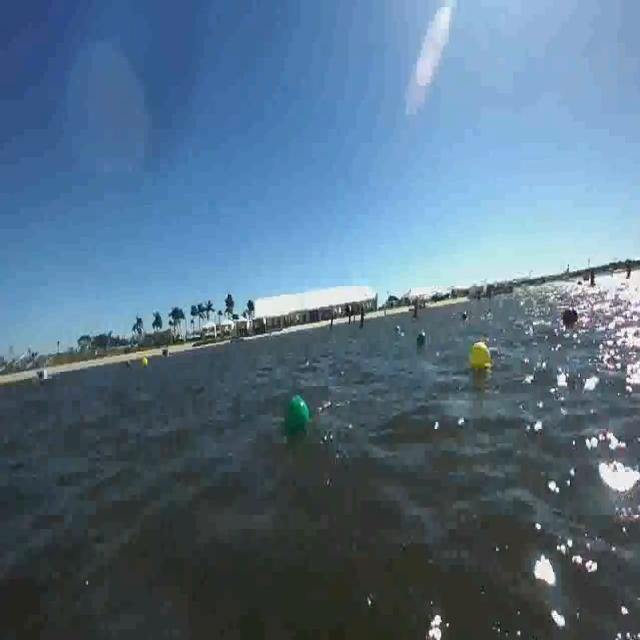green-buoy: (284, 396, 310, 434), (417, 334, 426, 347)
red-buoy: (560, 306, 580, 323)
yellow-buoy: (470, 340, 492, 371), (142, 356, 149, 368)
